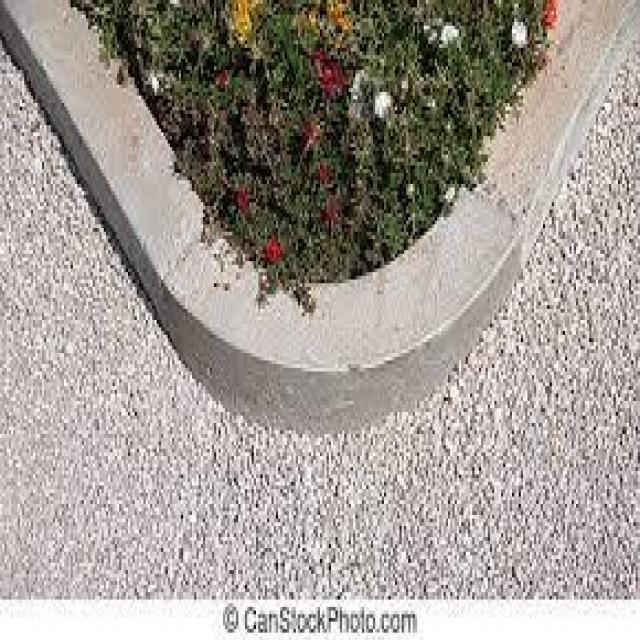curb: (162, 160, 518, 422), (6, 4, 165, 255), (499, 1, 640, 260)
